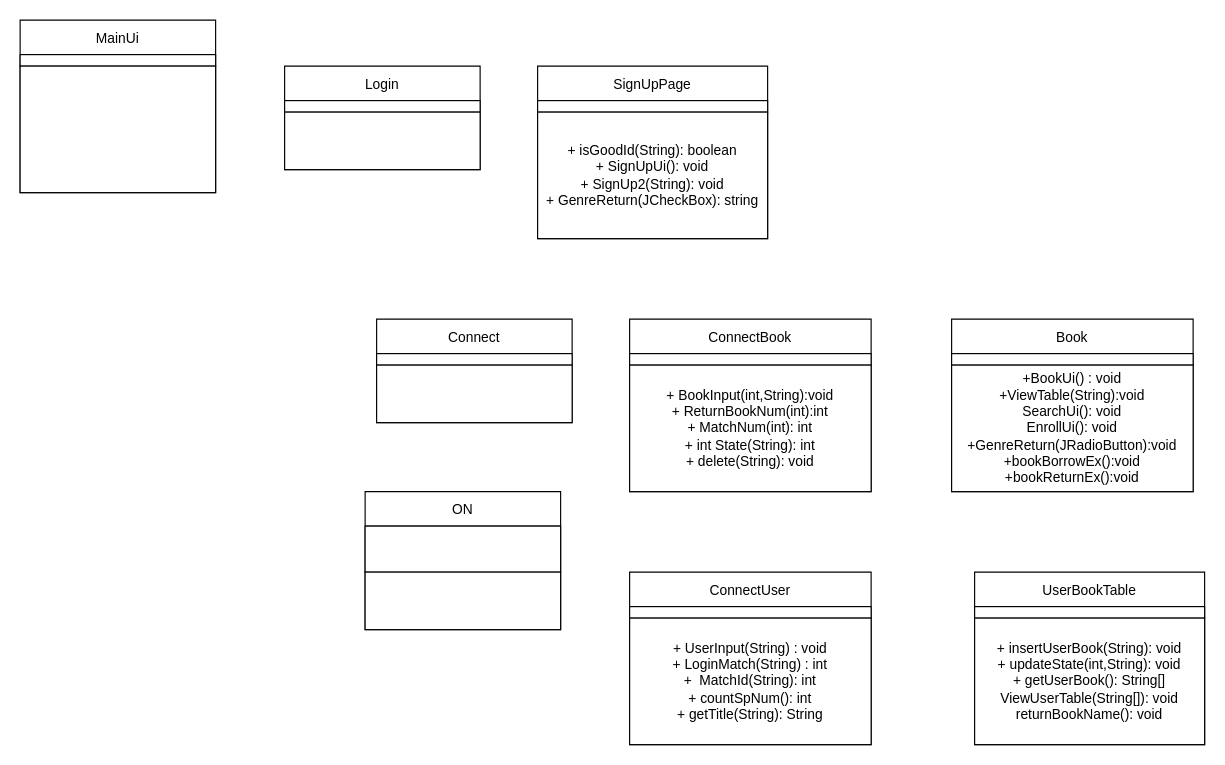
Image size: 1225x765. Some labels were removed from this diagram. Each missing label, with the centre of its shape:
"+ getConnect() +close() : void" goes at pixel 473 393.
"+Login()" goes at pixel 381 140.
"+MainUiview(String):void LoginTextSet(String):void LoginLebelSet(String):void" goes at pixel 117 129.
"+setOn(String,int): void + setOff(): void +print(): void" goes at pixel 462 600.
"manager: int" goes at pixel 462 548.
